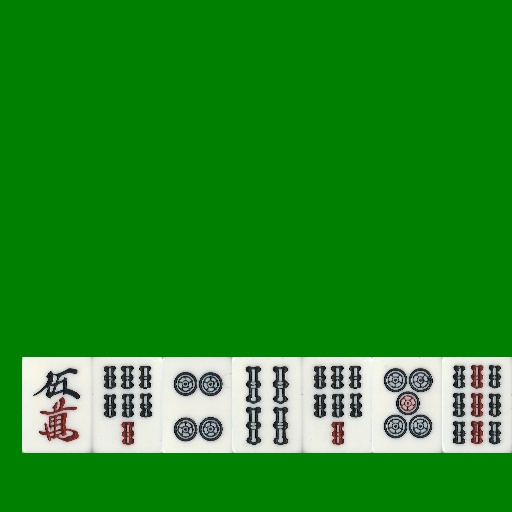4p: (162, 357, 232, 453)
4s: (232, 357, 302, 453)
5m: (22, 357, 92, 453)
5p: (372, 357, 442, 453)
7s: (92, 357, 162, 453), (302, 357, 372, 453)
9s: (442, 357, 512, 453)
